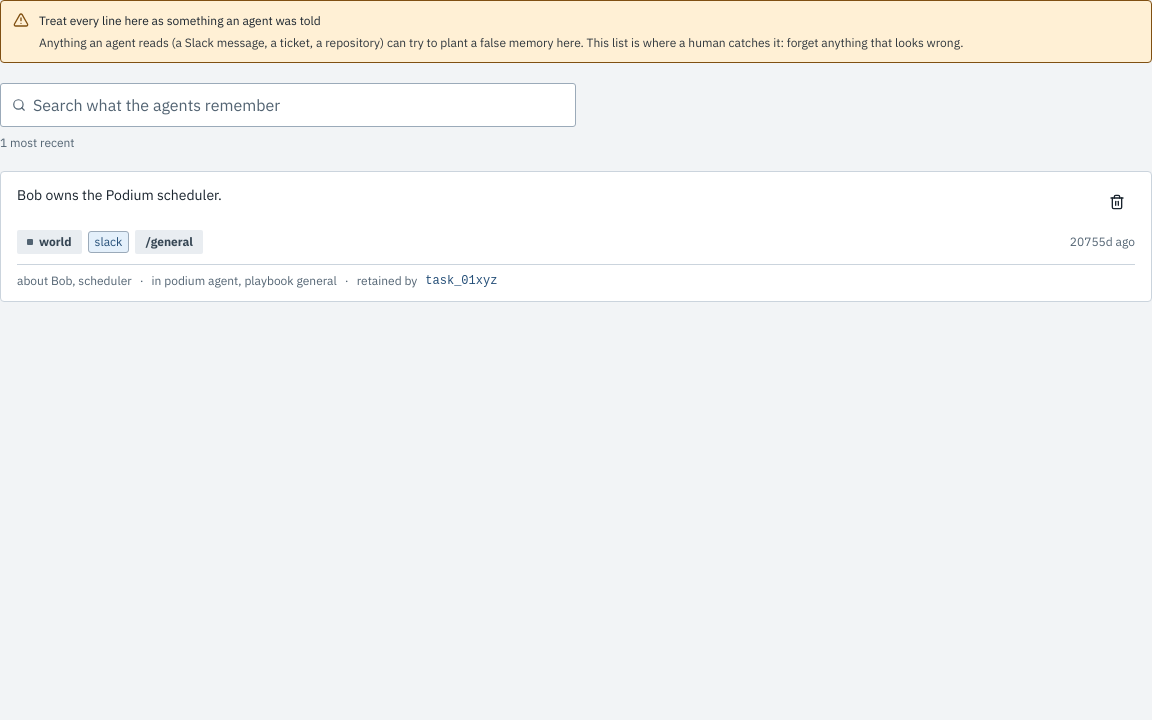
Scenario: MemoryPanel › asks before forgetting, and the row goes when it is confirmed
Click the button with test id "memory-delete" at (1117, 202), box [1099,184,1135,220]
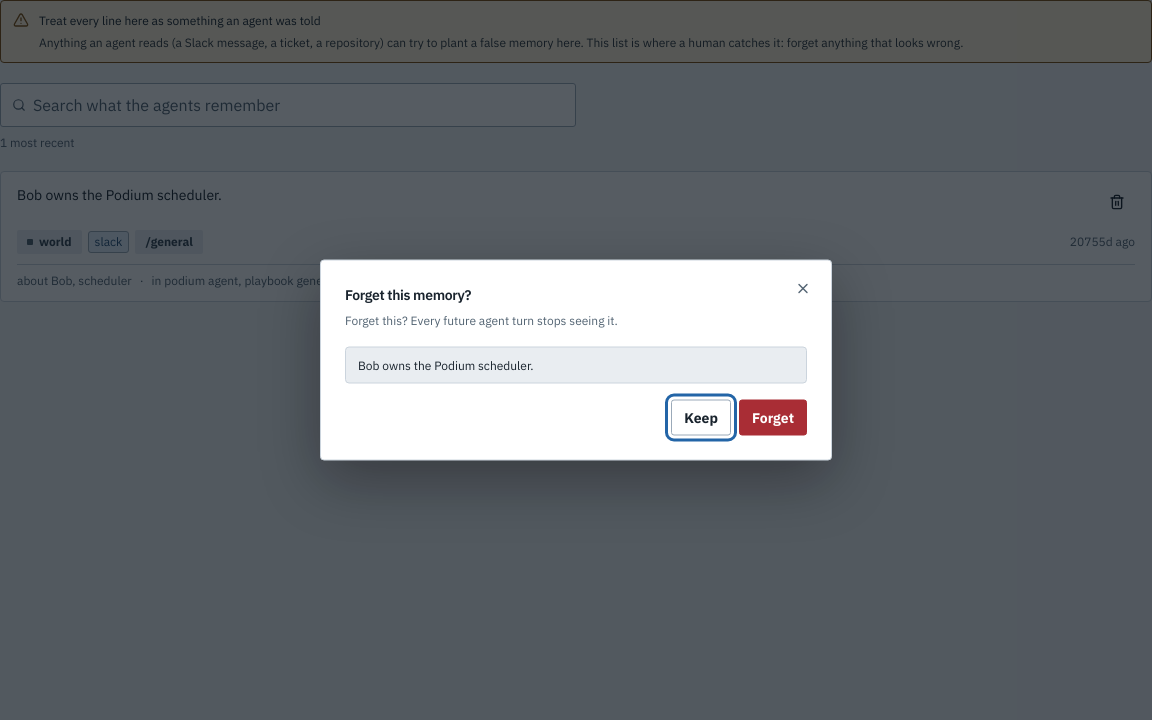
expect the text "Forget this? Every future agent turn stops seeing it." is shown: met, box [345,312,618,328]
Click the button with test id "memory-delete-confirm" at (773, 418), box [739,400,807,436]
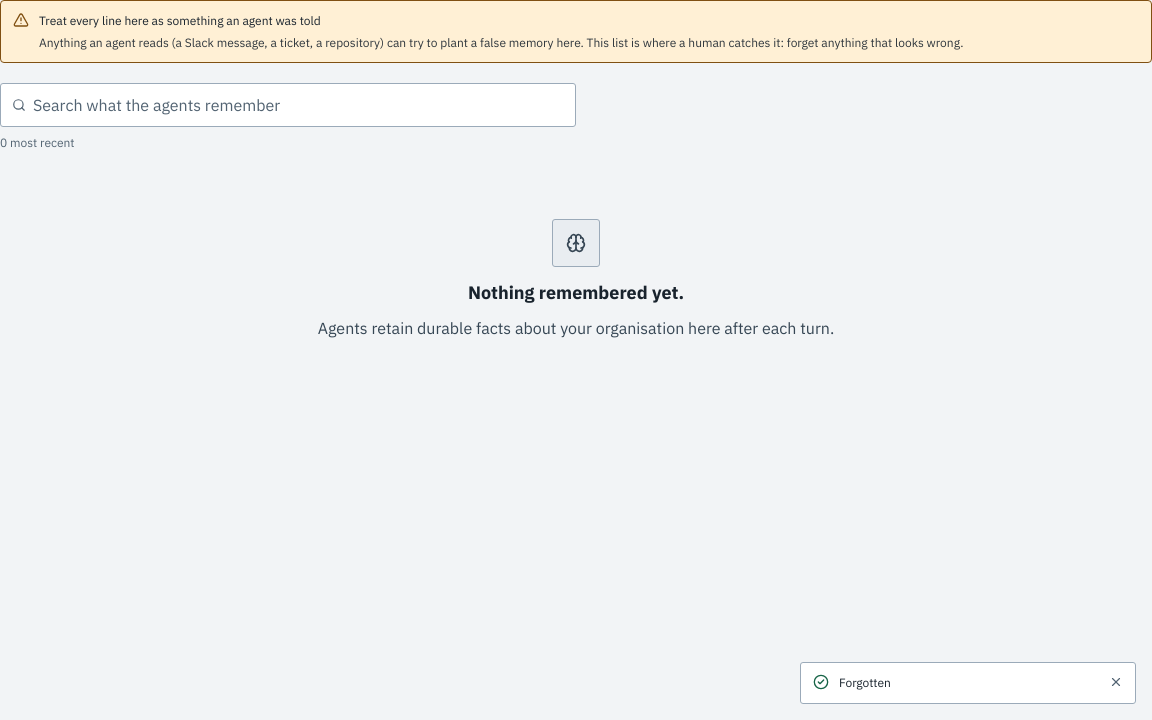
expect the message reads "Forgotten": met, box [839,675,891,690]
expect the list item with test id "memory-row" is gone: met
